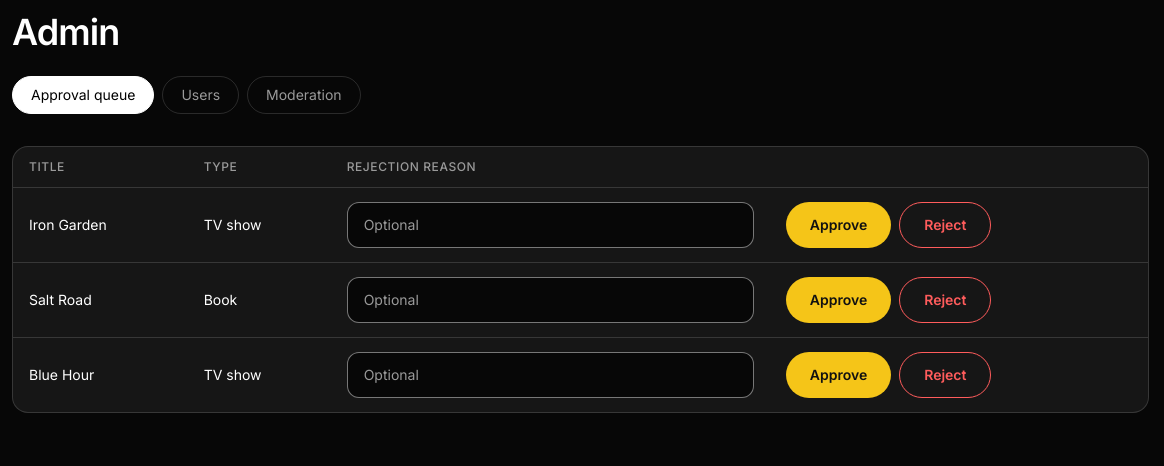
it: ApprovalQueue › a failed approve shows an error and keeps the title in the queue
Click the button "Approve" in the row of "Iron Garden" at (838, 225), box [786, 202, 891, 248]
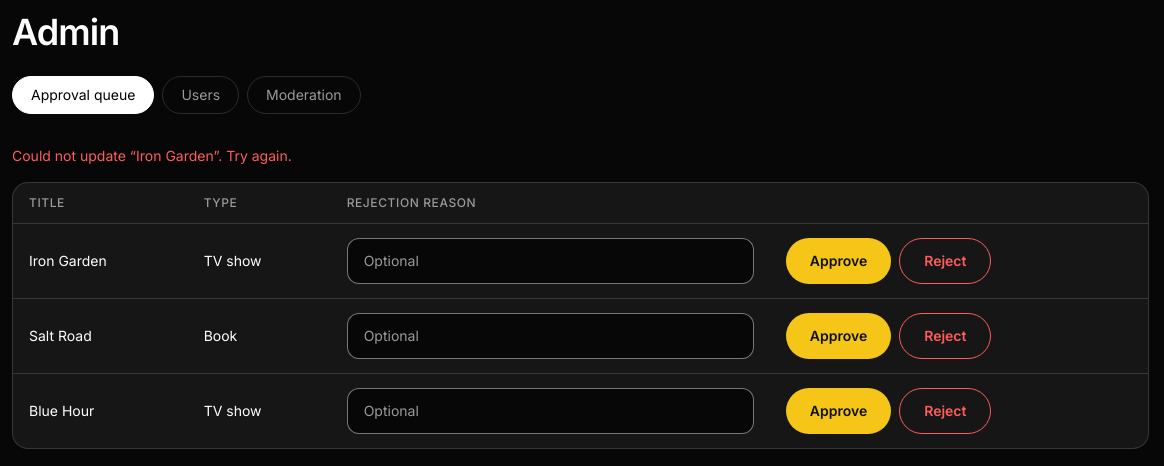
Expected: the cell "Iron Garden" is shown, [13, 224, 188, 298]
Expected: the message shows "Could not", [12, 147, 292, 164]
